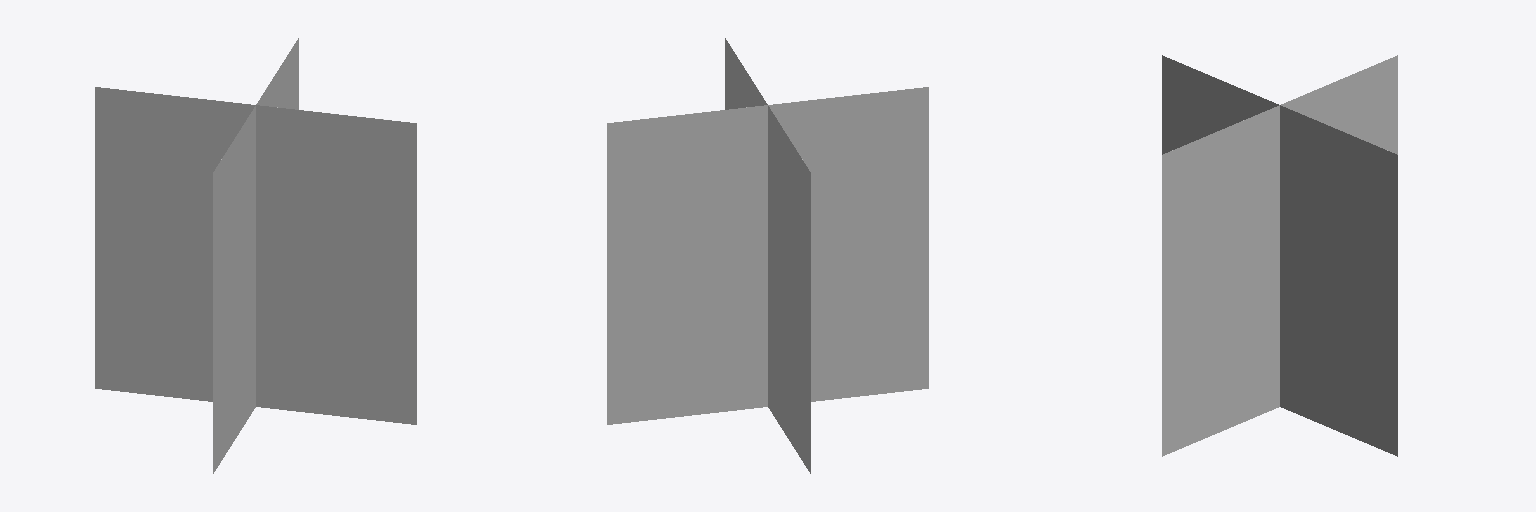
Rendered from strawberry_bush_age3.obj.
3 views of the same model, side by side, from view 1: azimuth 30°, elevation 25°; view 2: azimuth 150°, elevation 25°; view 3: azimuth 270°, elevation 25° (orthographic).
Bounding box in the file's own units: 0.7072 × 1 × 0.7072.